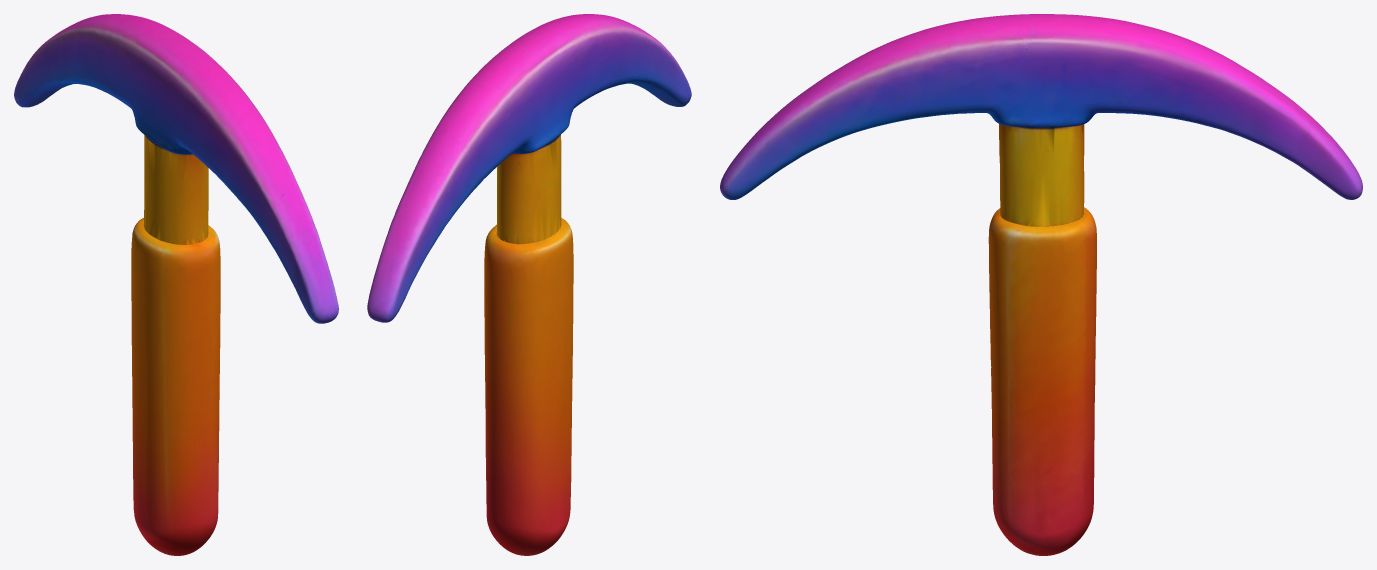
Rendered from pic__main__r2__p1.glb.
3 renders of one model, left to right at view 1: azimuth 30°, elevation 25°; view 2: azimuth 150°, elevation 25°; view 3: azimuth 270°, elevation 25°, orthographic. The views are drawn at different scales.
Parts seen in each view (by area): view 1: model; view 2: model; view 3: model.
Boxes of the visible parts, x1=… form: model: x1=14, y1=14, x2=338, y2=555; model: x1=367, y1=14, x2=691, y2=555; model: x1=720, y1=14, x2=1362, y2=555.
Size of the model in its own units: 0.2405 by 1.69 by 1.84.
Materials: 1 (1 with a texture image).
